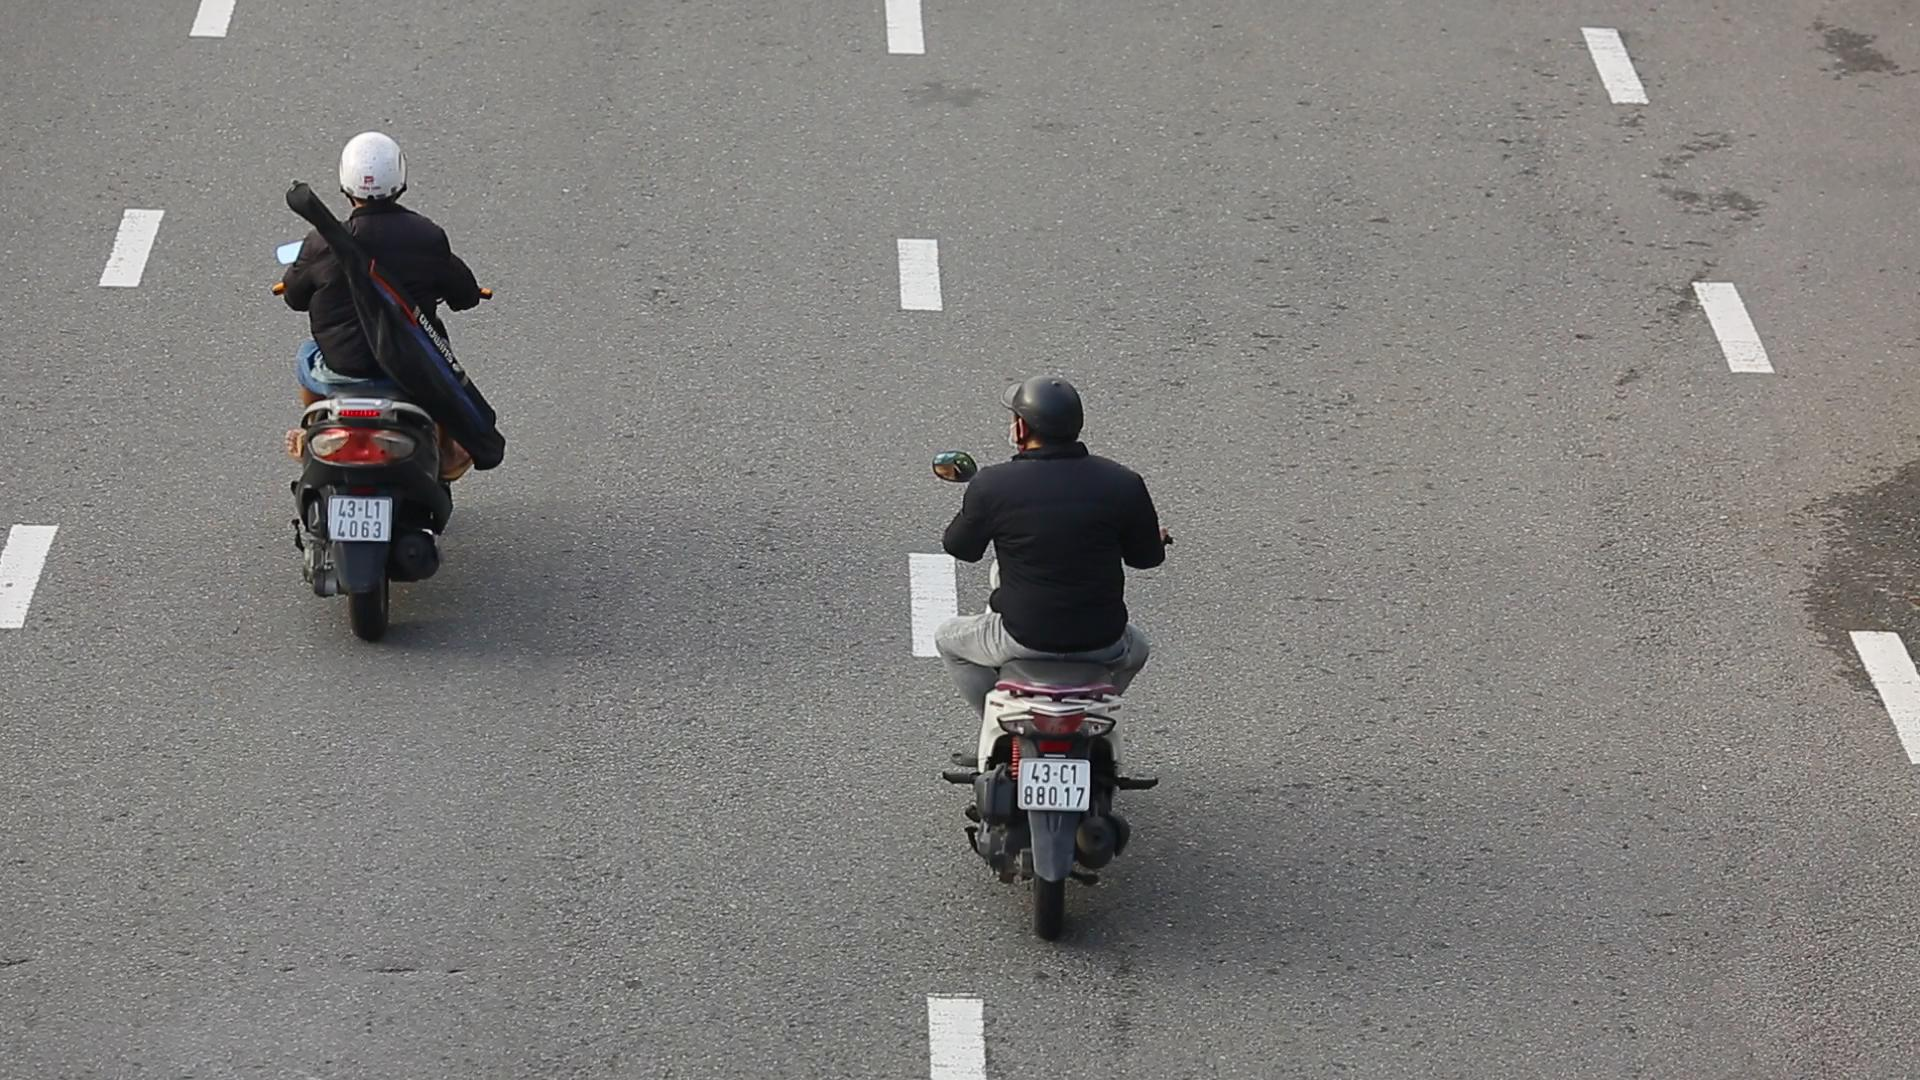motobike: (919, 368, 1176, 939), (258, 124, 525, 642)
